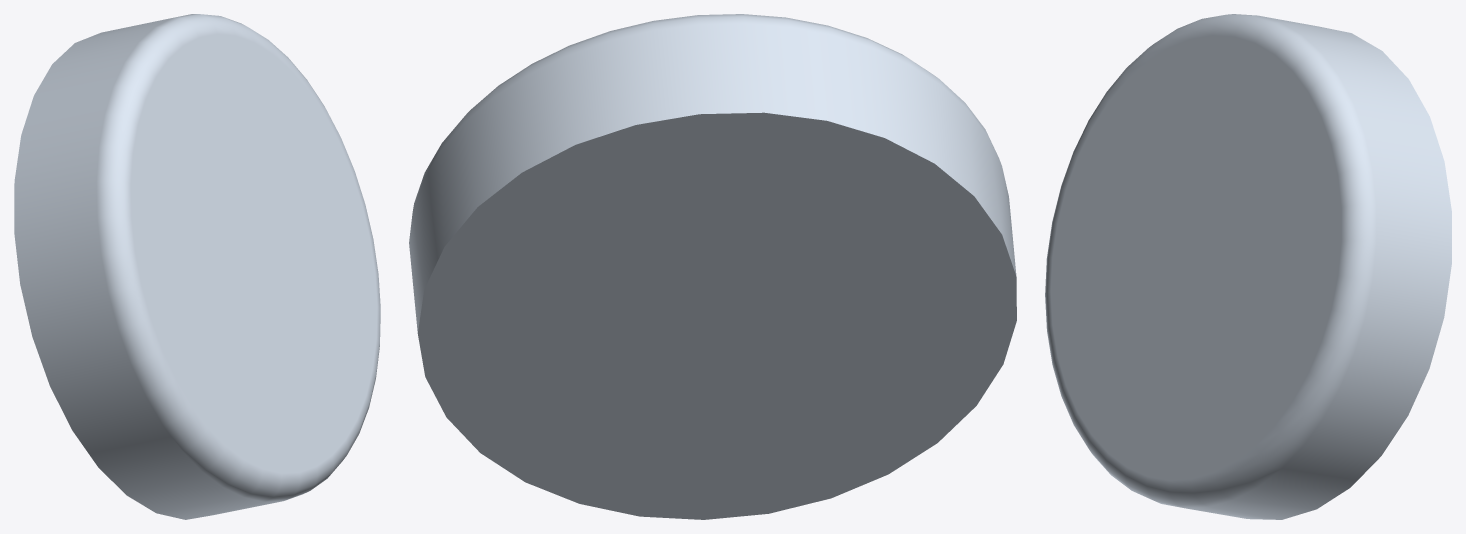
File: RB-014_viewer.glb
The picture shows the model from 3 angles, left to right: view 1: azimuth 30°, elevation 25°; view 2: azimuth 150°, elevation 25°; view 3: azimuth 270°, elevation 25°; orthographic projection. The views are drawn at different scales.
Visible parts, largest first — view 1: basebody_imported1; view 2: basebody_imported1; view 3: basebody_imported1.
Boxes of the visible parts, x1=… form: basebody_imported1: x1=14, y1=14, x2=380, y2=519; basebody_imported1: x1=409, y1=14, x2=1016, y2=519; basebody_imported1: x1=1045, y1=14, x2=1451, y2=519.
Bounding box in the file's own units: 0.00288 × 0.00301 × 0.00245.
